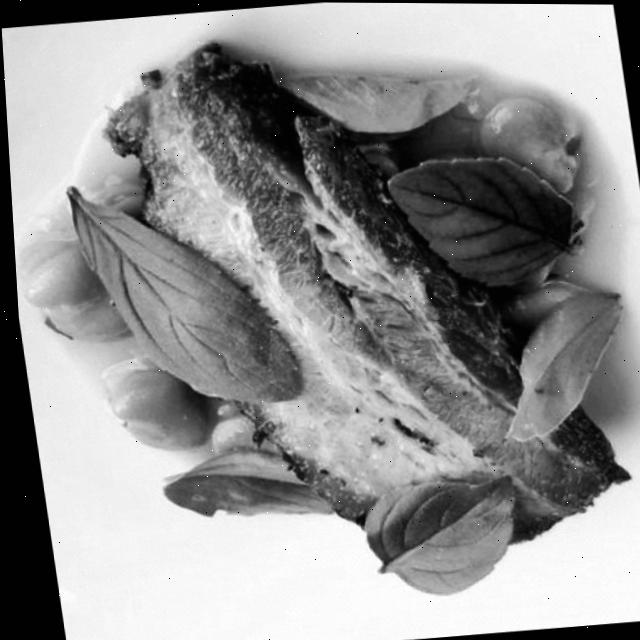牛肉菜式: (18, 5, 640, 640)
